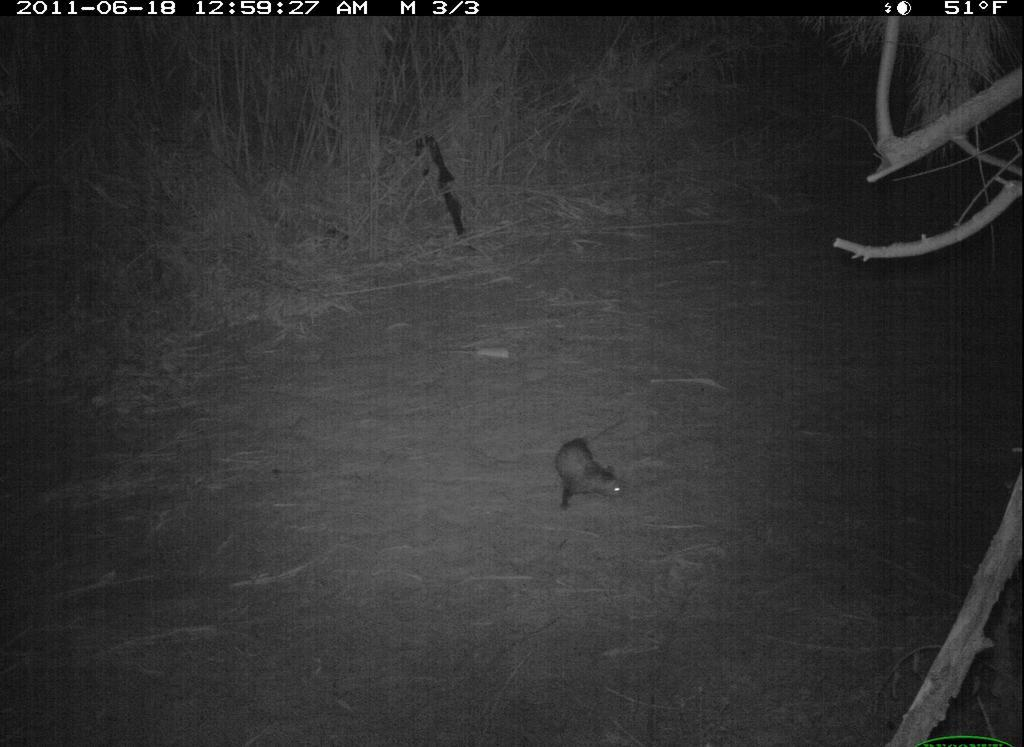opossum: (518, 408, 633, 533)
